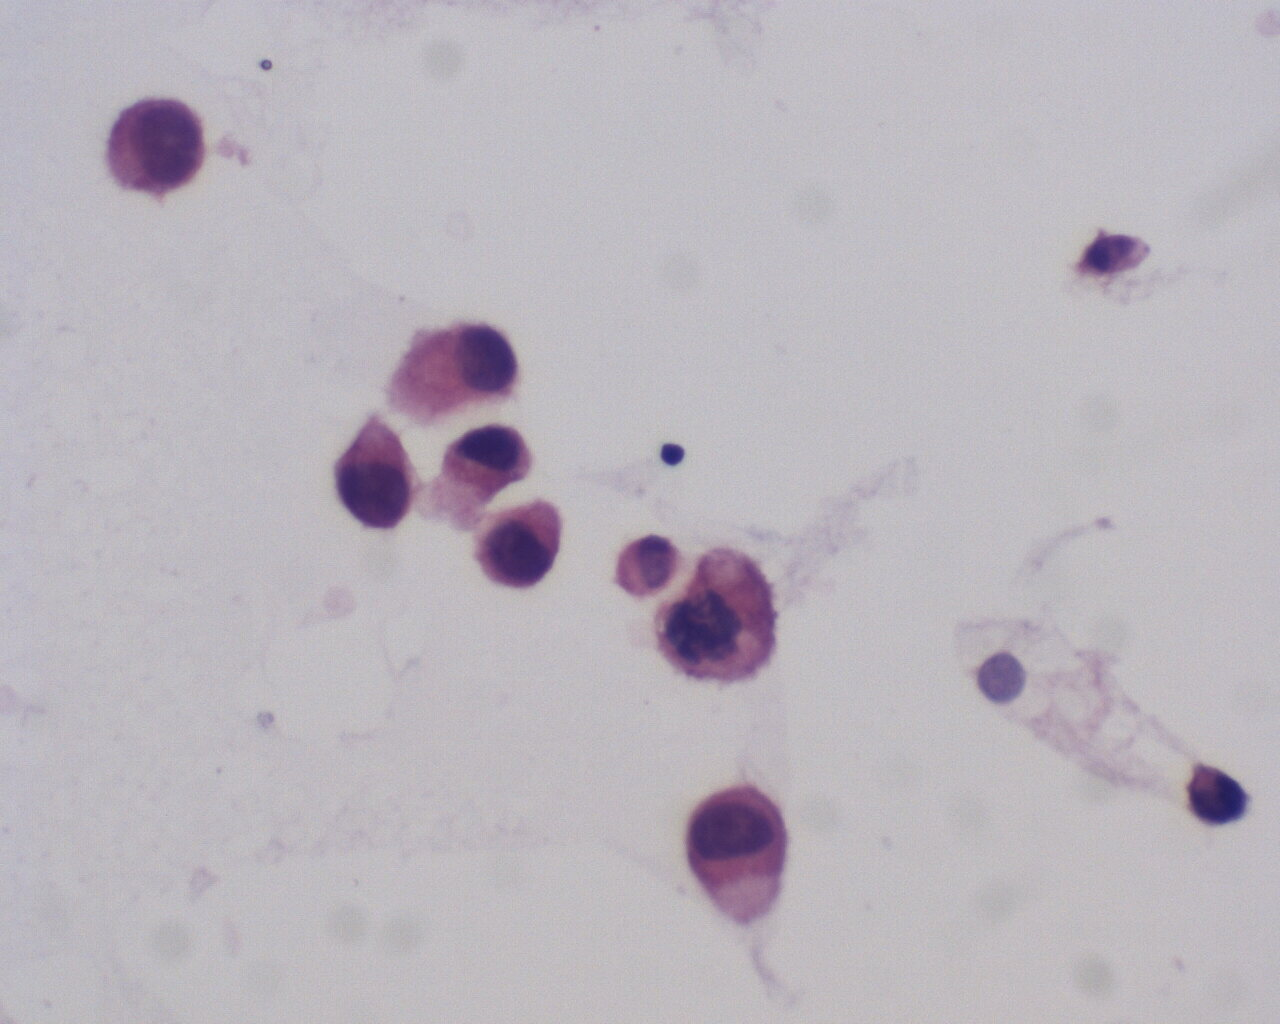ab: (649, 533, 779, 686), (679, 785, 798, 924), (101, 92, 213, 205), (336, 419, 423, 535), (471, 497, 571, 589), (441, 420, 534, 498), (1183, 755, 1250, 833)
